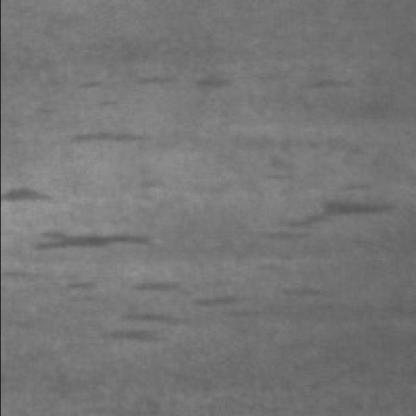inclusion: (62, 269, 236, 345), (258, 192, 387, 262), (29, 220, 158, 254), (185, 281, 293, 318), (62, 116, 154, 150), (185, 66, 239, 94), (0, 181, 54, 208), (299, 71, 358, 95), (127, 66, 177, 90)
